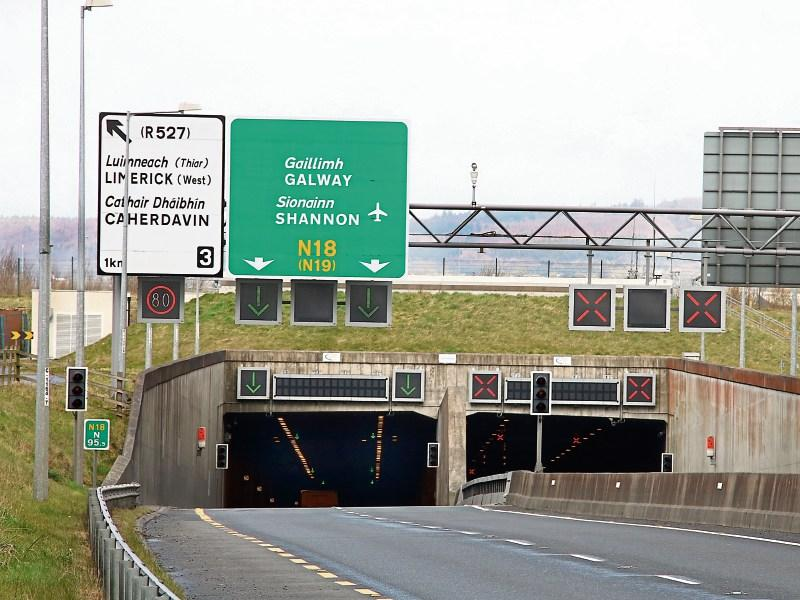bridge: (95, 105, 800, 332), (224, 348, 670, 420)
